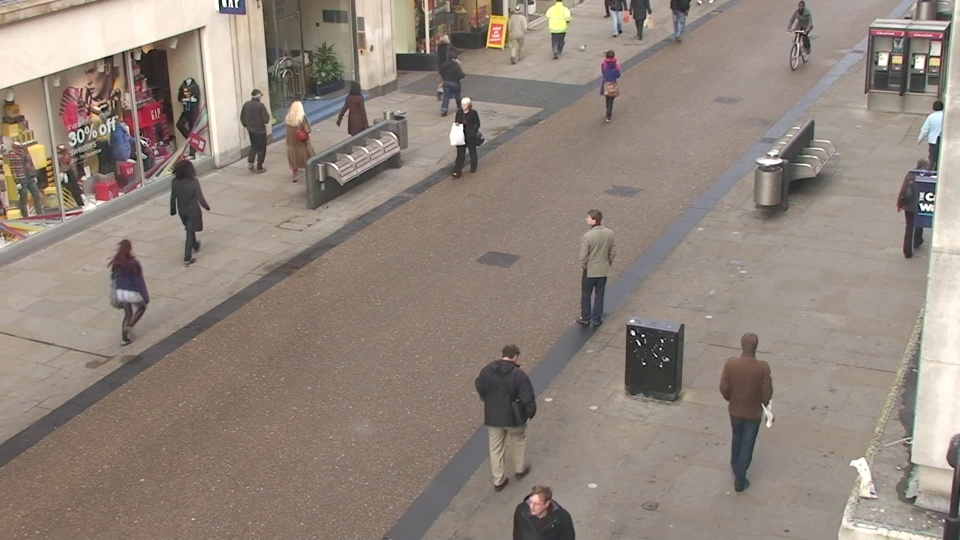pedestrian: (720, 325, 773, 475), (486, 333, 534, 485), (105, 233, 158, 357), (575, 203, 613, 324), (909, 96, 955, 191), (168, 157, 210, 261), (510, 474, 569, 540), (282, 96, 316, 185), (242, 84, 275, 169), (452, 93, 483, 183), (340, 79, 371, 163), (438, 47, 465, 124), (597, 47, 623, 124), (429, 32, 456, 104), (506, 2, 529, 66)
